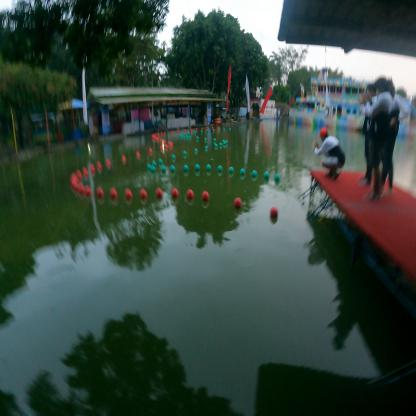green_buoy: (183, 164, 189, 175), (218, 164, 224, 174), (252, 170, 258, 180), (264, 170, 270, 180), (171, 165, 176, 176), (206, 164, 211, 174), (229, 166, 235, 174), (274, 174, 280, 182), (195, 164, 200, 173), (161, 166, 166, 174), (242, 169, 247, 177)
red_buoy: (270, 206, 279, 221), (186, 190, 194, 201), (172, 187, 178, 200), (125, 188, 132, 199), (202, 191, 209, 202), (235, 197, 242, 208), (86, 187, 92, 199), (156, 188, 163, 198), (98, 187, 104, 198), (79, 186, 84, 196), (142, 189, 147, 198), (112, 187, 116, 196)
